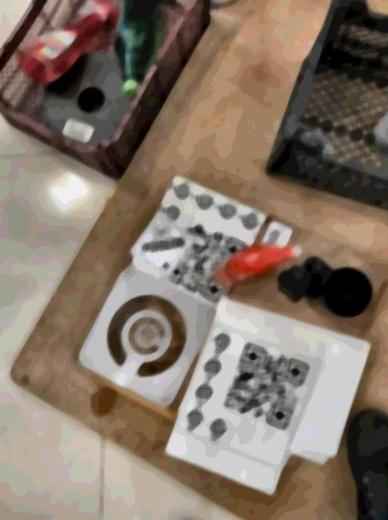poison: (129, 211, 202, 279)
